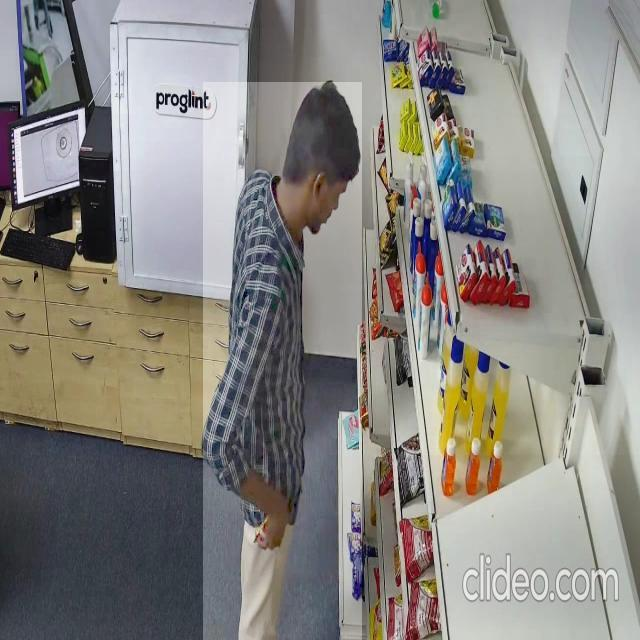Shoplifting: (203, 82, 362, 640)
